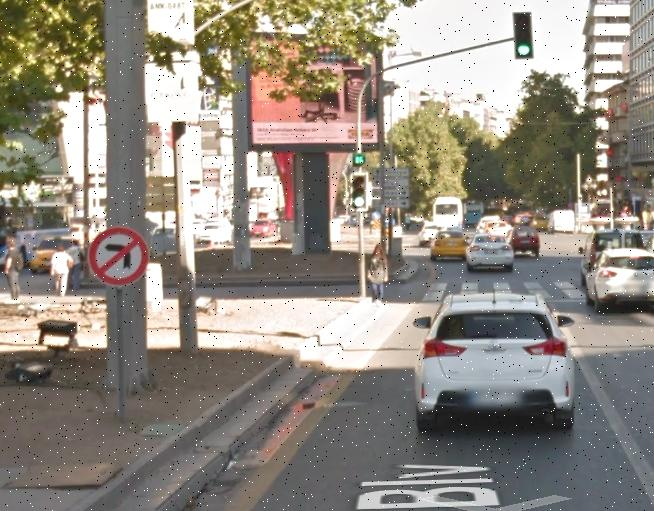greenlight: (514, 11, 536, 61), (349, 172, 369, 213)
leftturnsareforbidden: (91, 227, 150, 286)
